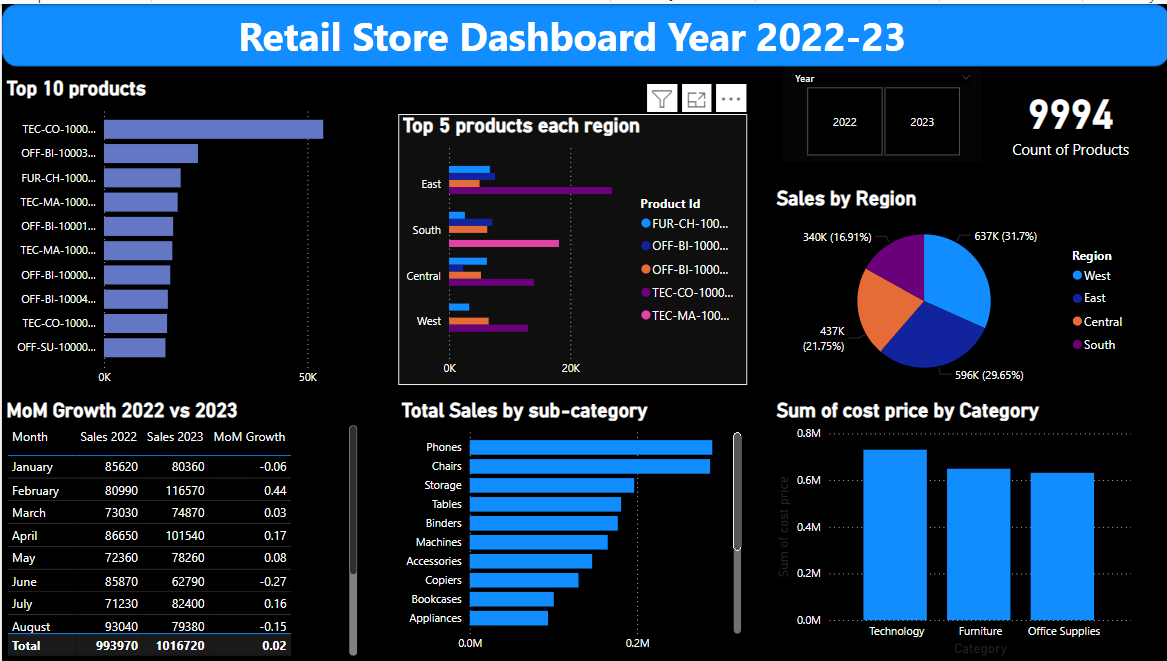

This screenshot's page, from the dashboard's own definition file:
{"tool":"powerbi","page":{"name":"Page 1","canvas":[1280,720],"ordinal":0},"visuals":[{"type":"shape","box":[0,0,1280.3,68.5],"z":500},{"type":"barChart","title":"Top 10 products","fields":{"Category":["orders.Product Id"],"Y":["Sum(orders.cost price)"]},"box":[0,79.5,394.8,348.2],"z":1000},{"type":"clusteredBarChart","title":"Top 5 products each region","fields":{"Category":["orders.Region"],"Y":["Sum(orders.cost price)"],"Series":["orders.Product Id"]},"box":[434.5,120.6,382.4,297.5],"z":2000},{"type":"pieChart","title":"Sales by Region","fields":{"Category":["orders.Region"],"Y":["Sum(orders.cost price)"]},"box":[844.4,200.1,398.9,227.5],"z":3000},{"type":"card","fields":{"Values":["orders.Count of Products"]},"box":[1100.7,83.6,142.6,87.7],"z":4000},{"type":"tableEx","title":"MoM Growth 2022 vs 2023","fields":{"Values":["orders.Order Date.Variation.Date Hierarchy.Month","orders.Sales 2022","orders.Sales 2023","orders.MoM Growth"]},"box":[0,433.2,394.8,286.5],"z":6000},{"type":"clusteredColumnChart","fields":{"Category":["orders.Category"],"Y":["Sum(orders.cost price)"]},"box":[844.4,433.2,398.9,286.5],"z":7000},{"type":"slicer","fields":{"Values":["orders.Order Date.Variation.Date Hierarchy.Year"]},"box":[856.7,69.9,217.9,102.8],"z":8000},{"type":"clusteredBarChart","title":"Total Sales by sub-category","fields":{"Category":["orders.Sub Category"],"Y":["Sum(orders.cost price)"]},"box":[433.2,433.2,382.4,286.5],"z":9000},{"type":"textbox","box":[100.1,0,1050,68.5],"z":10000}]}

Visuals, with their boxes in screenshot pixels (x1, y1, x2, y2), scaled from the page's 1280x720 canvas onto the 1167x661 screenshot:
shape: x1=0, y1=0, x2=1166, y2=63
"Top 10 products" barChart: x1=0, y1=73, x2=360, y2=393
"Top 5 products each region" clusteredBarChart: x1=396, y1=111, x2=745, y2=384
"Sales by Region" pieChart: x1=770, y1=184, x2=1134, y2=393
card - orders.Count of Products: x1=1004, y1=77, x2=1134, y2=157
"MoM Growth 2022 vs 2023" tableEx: x1=0, y1=398, x2=360, y2=660
clusteredColumnChart - orders.Category x Sum(orders.cost price): x1=770, y1=398, x2=1134, y2=660
slicer - orders.Order Date.Variation.Date Hierarchy.Year: x1=781, y1=64, x2=980, y2=159
"Total Sales by sub-category" clusteredBarChart: x1=395, y1=398, x2=744, y2=660
textbox: x1=91, y1=0, x2=1049, y2=63
